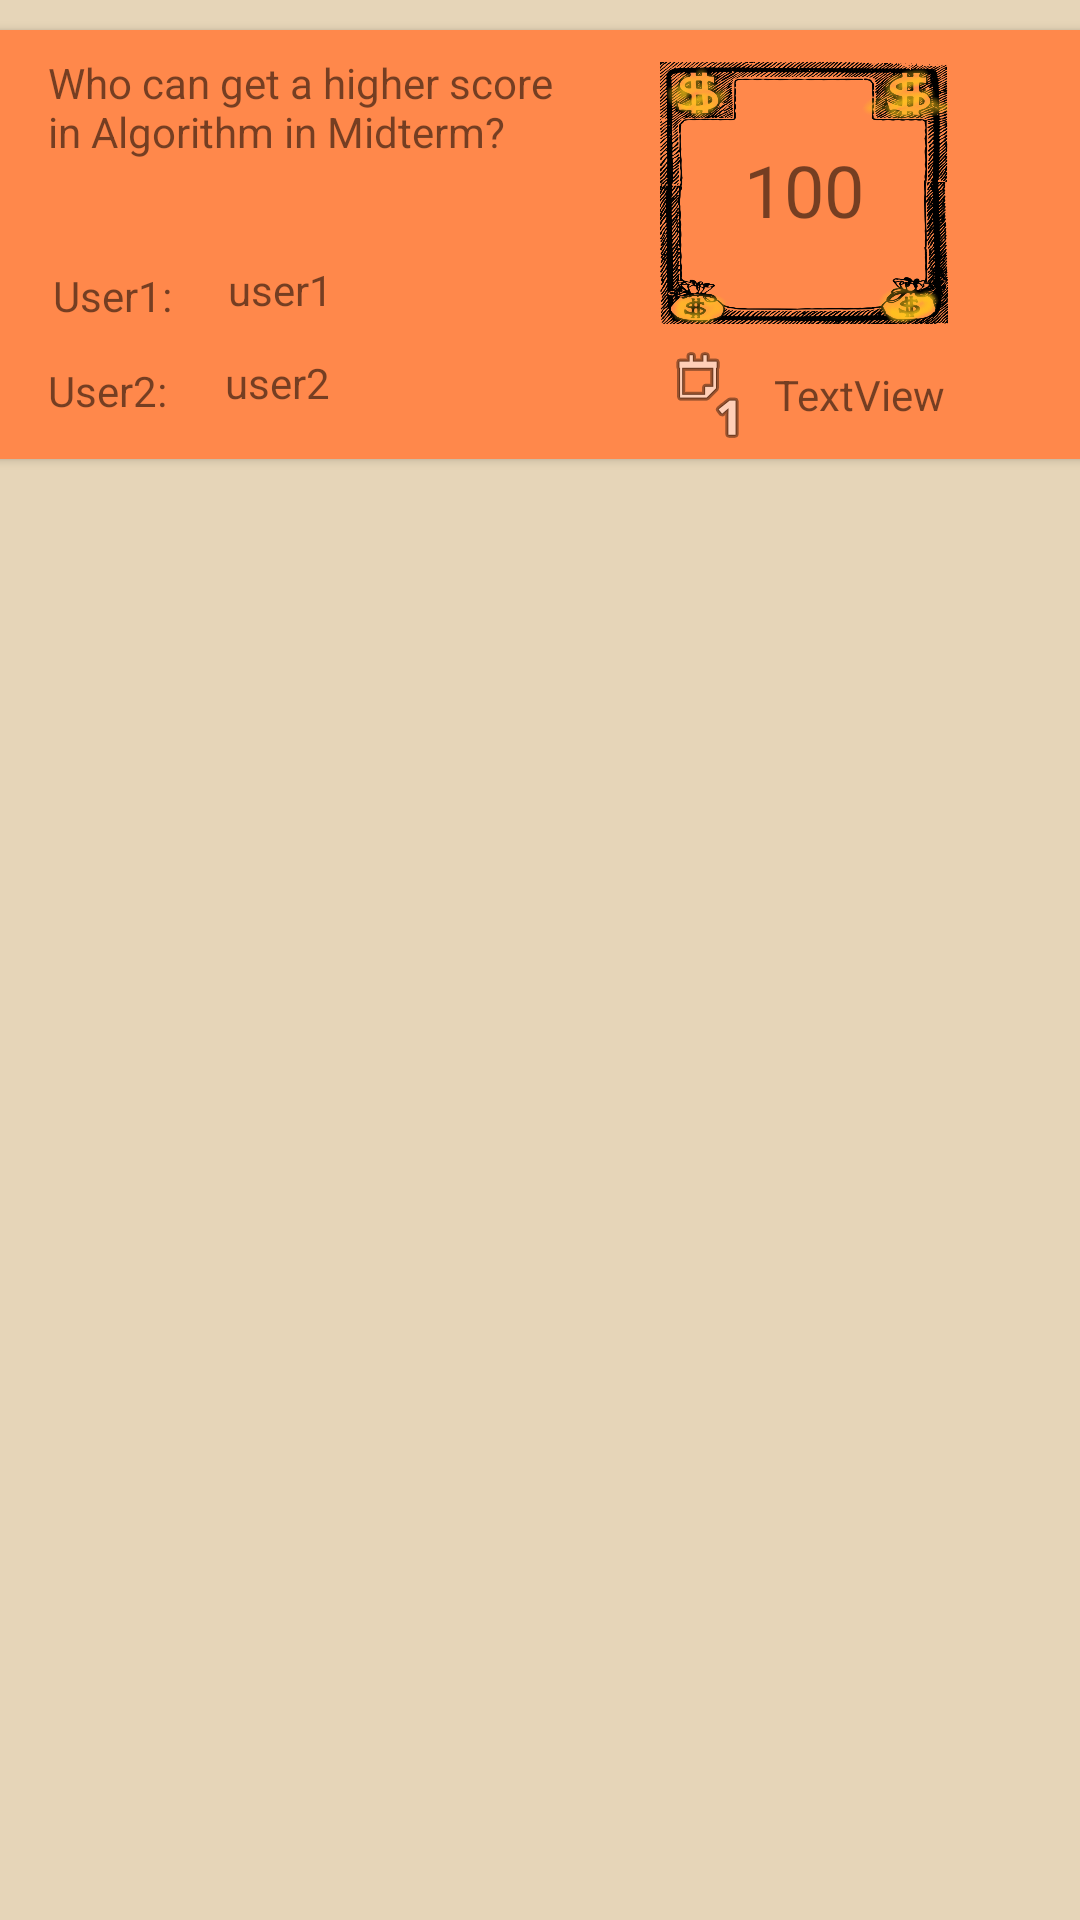

Screen size 1080 × 1920. Icon name, then its center in pixels as (x=x, y=y):
day: (x=707, y=395)
money frame: (x=804, y=193)
